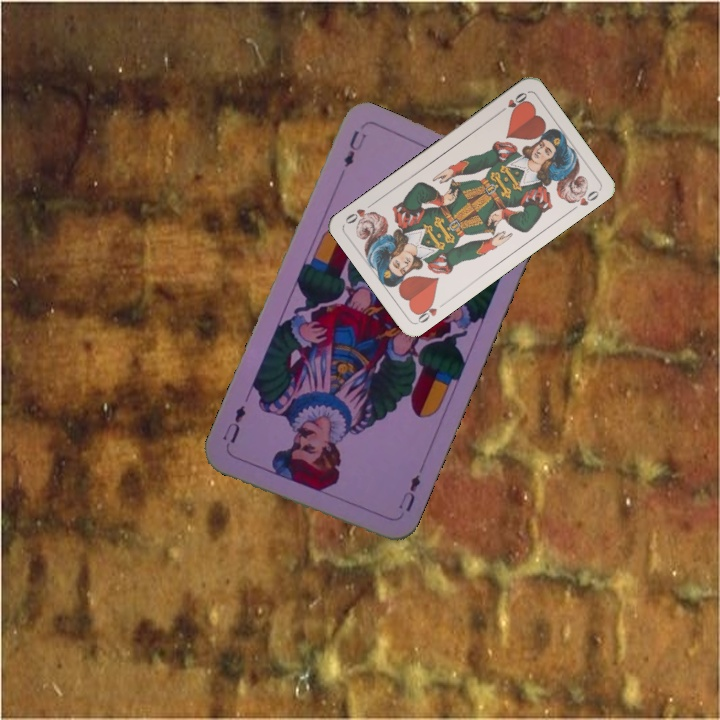EU: (394, 470, 424, 515), (339, 126, 369, 170)
HO: (411, 296, 449, 326), (494, 88, 530, 116)
